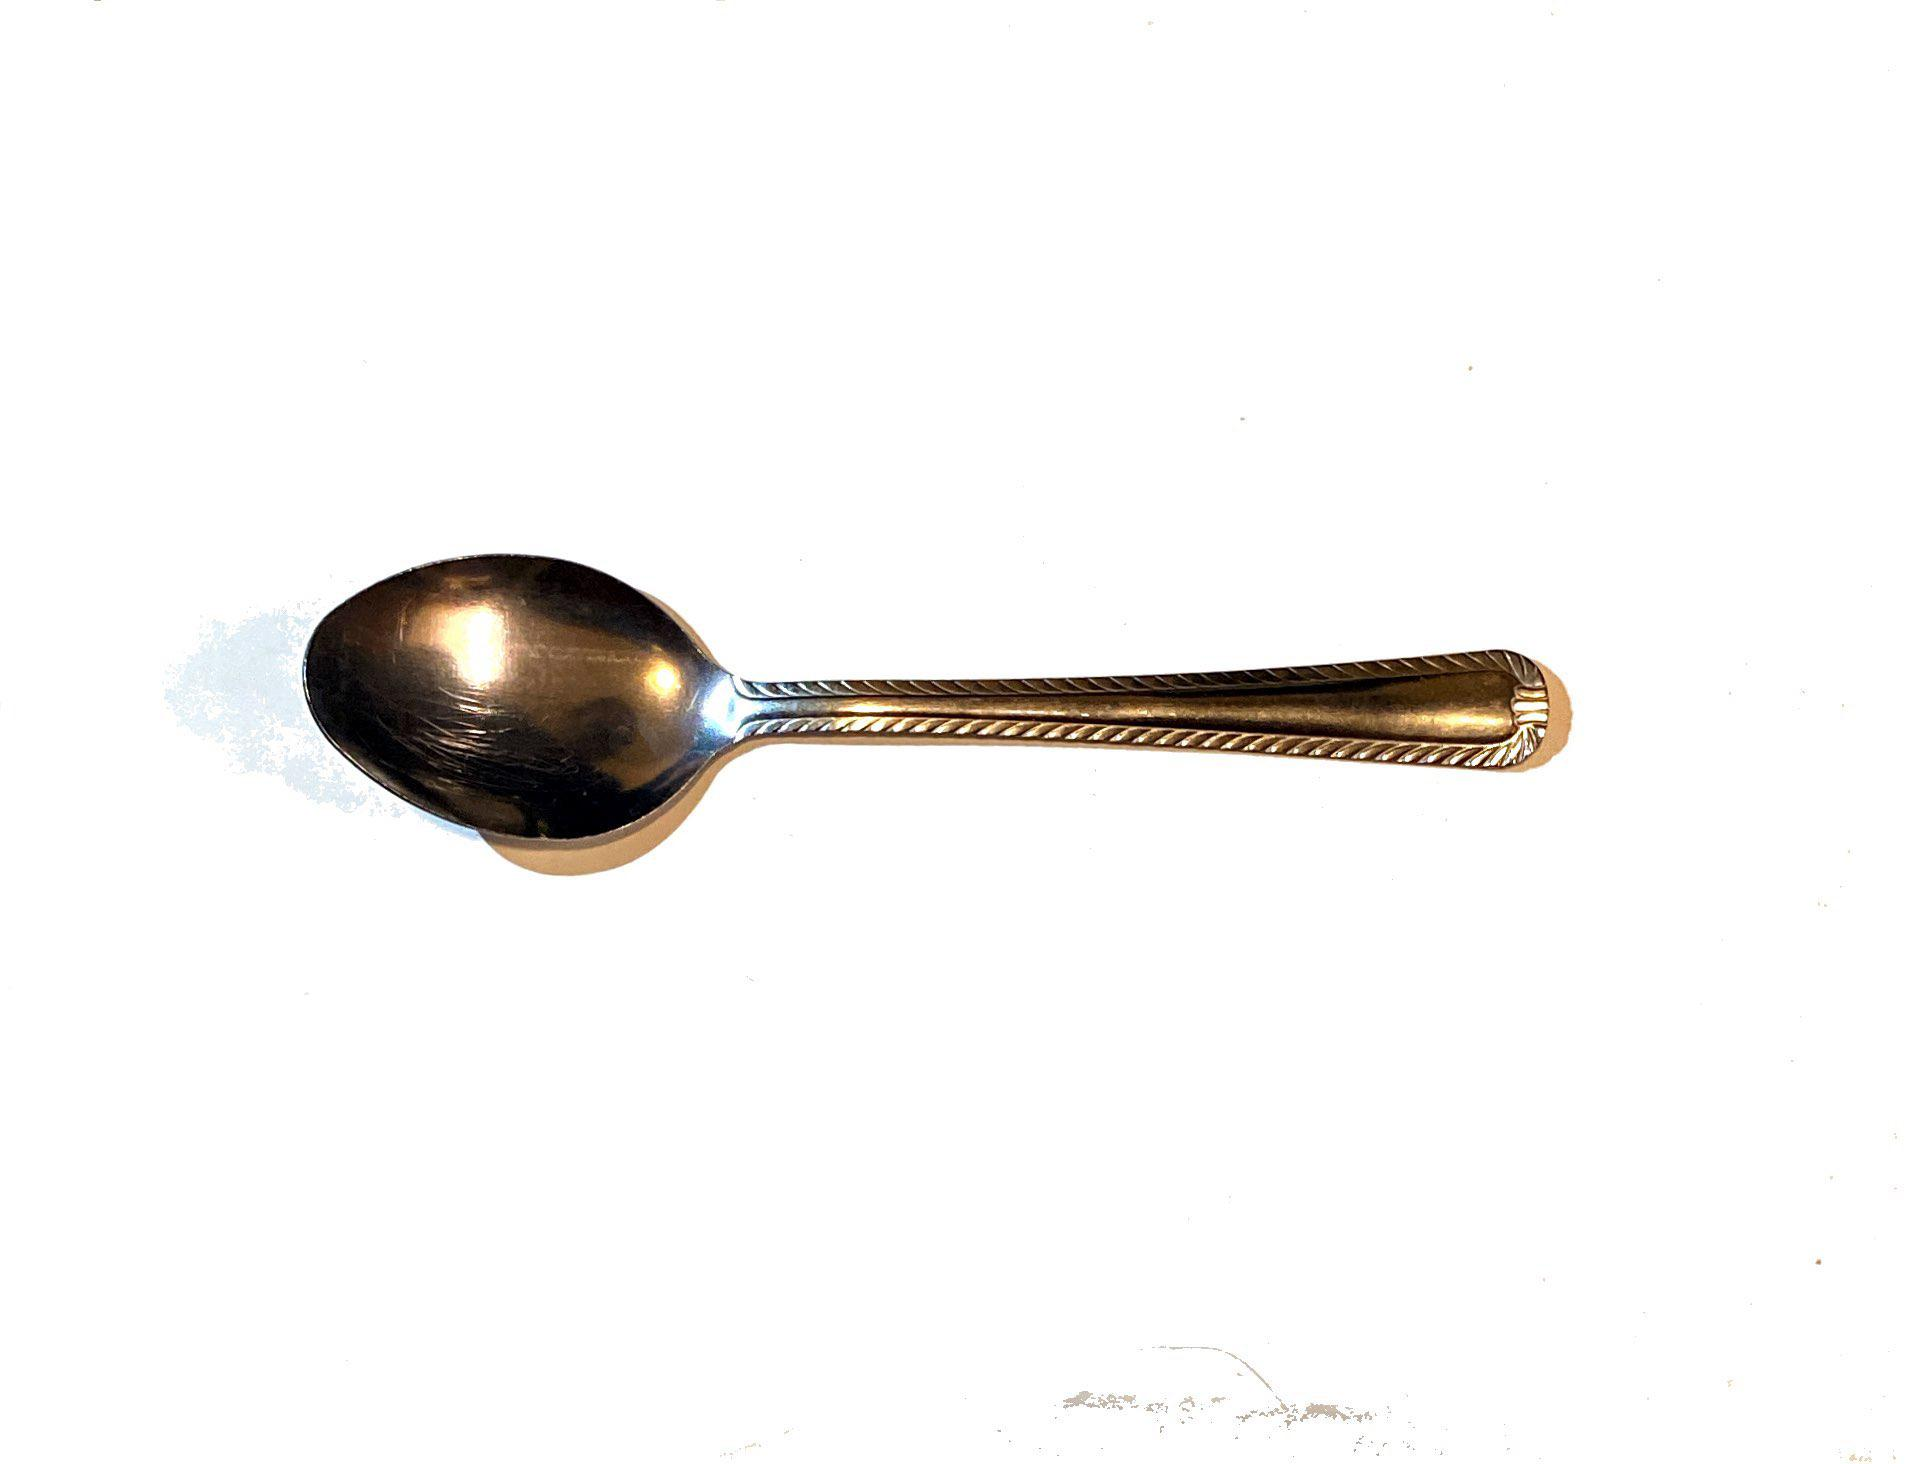Spoon: (291, 494, 1760, 957)
